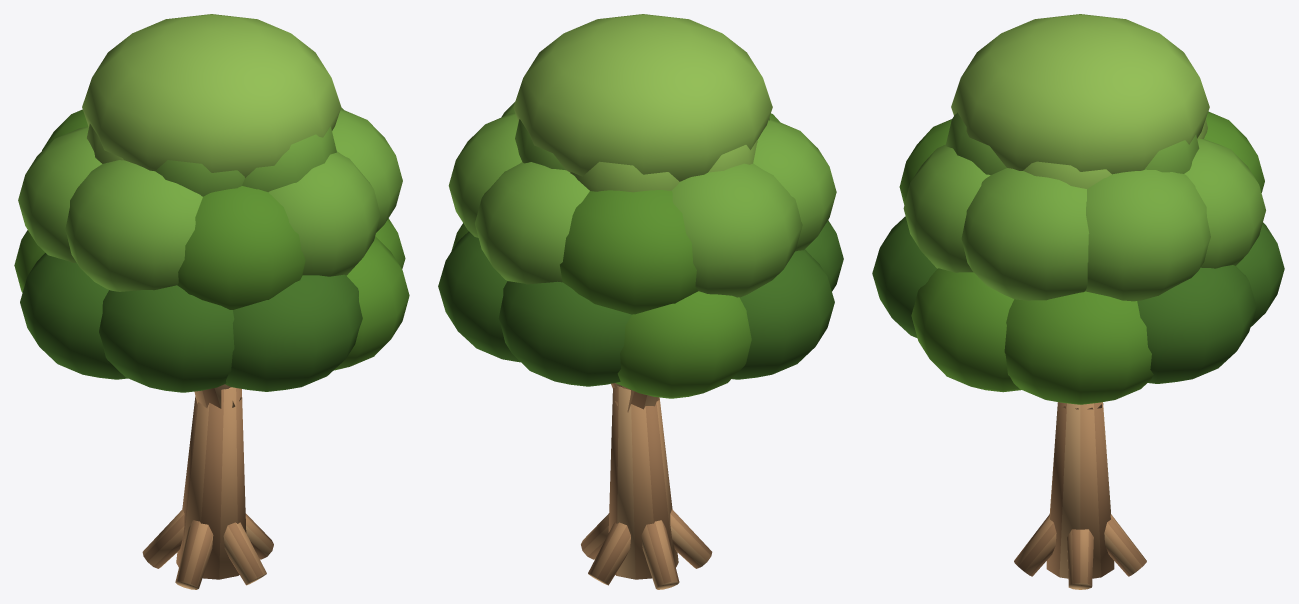
Rendered from foliage_young_tree.glb.
The picture shows the model from 3 angles, left to right: view 1: azimuth 30°, elevation 25°; view 2: azimuth 150°, elevation 25°; view 3: azimuth 270°, elevation 25°; orthographic projection.
Visible parts, largest first — view 1: foliage_young_tree; view 2: foliage_young_tree; view 3: foliage_young_tree.
Part boxes in pixels (x1=…): foliage_young_tree: x1=14, y1=14, x2=409, y2=589; foliage_young_tree: x1=438, y1=14, x2=843, y2=589; foliage_young_tree: x1=872, y1=14, x2=1284, y2=589.
Size of the model in its own units: 1.21 by 1.73 by 1.2.
